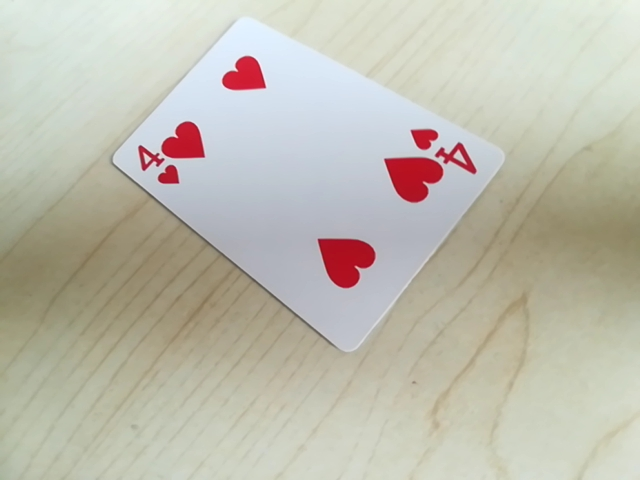hx 4: (128, 136, 198, 195), (402, 124, 486, 173)
